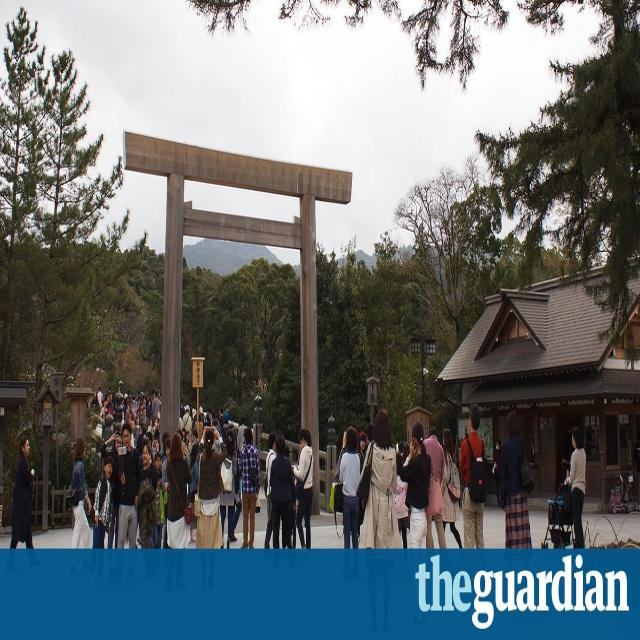body: (91, 387, 226, 460), (357, 408, 404, 548), (499, 410, 533, 550), (459, 402, 488, 549), (194, 422, 227, 550), (399, 422, 431, 550), (288, 426, 315, 558), (115, 422, 142, 550), (165, 432, 194, 550), (268, 432, 297, 550), (64, 434, 93, 550), (422, 424, 448, 548), (237, 426, 262, 552), (9, 434, 36, 550), (338, 426, 363, 550), (99, 430, 124, 550), (440, 426, 463, 548), (565, 424, 586, 550), (219, 426, 238, 550), (91, 458, 114, 551), (263, 432, 278, 550), (393, 451, 411, 549), (152, 466, 168, 550), (187, 442, 200, 545), (136, 437, 159, 494), (231, 424, 242, 542), (491, 436, 507, 508), (161, 436, 171, 550), (359, 422, 375, 476), (356, 430, 369, 477), (182, 403, 192, 452), (236, 415, 247, 456), (159, 433, 172, 466), (151, 388, 162, 427), (528, 436, 536, 470), (96, 385, 104, 417), (400, 444, 408, 472), (153, 451, 163, 472), (218, 405, 225, 428), (283, 442, 291, 460)
